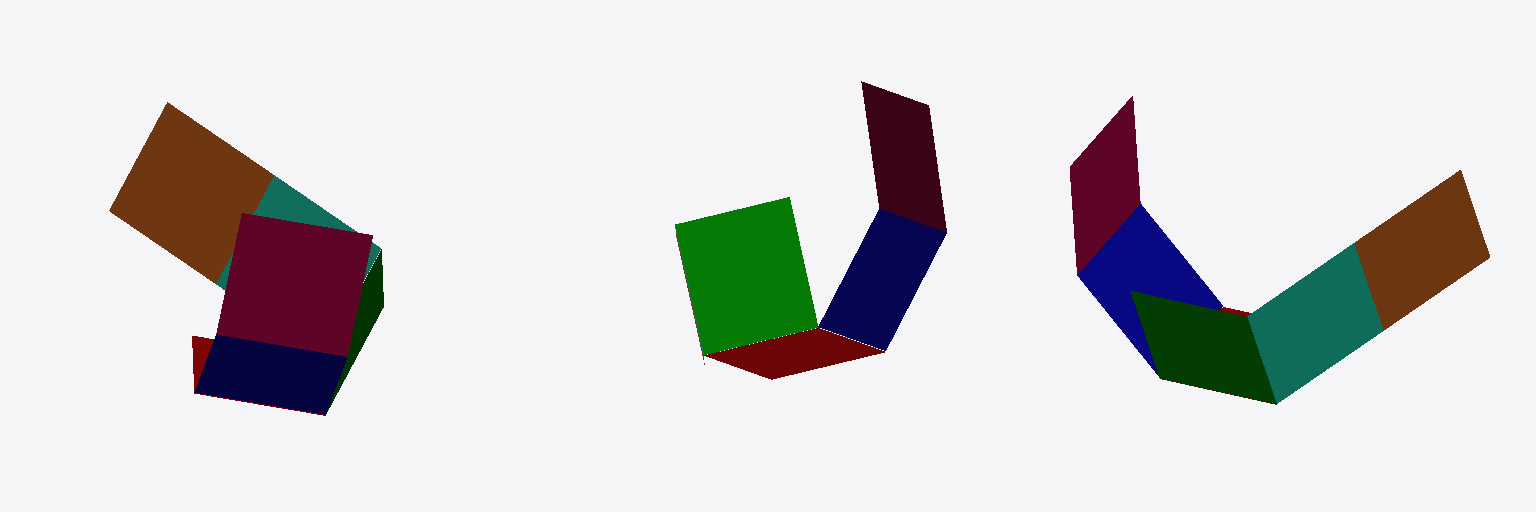
Rendered from cubexpansion.obj.
The picture shows the model from 3 angles: view 1: azimuth 30°, elevation 25°; view 2: azimuth 150°, elevation 25°; view 3: azimuth 270°, elevation 25°; orthographic projection.
Parts seen in each view (by area): view 1: Plane003, Plane004, Plane002, Plane005, Plane006, Plane001; view 2: Plane006, Plane002, Plane003, Plane001; view 3: Plane004, Plane005, Plane006, Plane002, Plane003.
Boxes of the visible parts, x1,y1,x2,y2 form: Plane003: [216, 213, 372, 356]; Plane004: [109, 102, 273, 283]; Plane002: [194, 335, 346, 414]; Plane005: [216, 175, 380, 289]; Plane006: [326, 249, 383, 413]; Plane001: [192, 336, 325, 415]; Plane006: [675, 197, 818, 354]; Plane002: [818, 208, 946, 350]; Plane003: [861, 81, 946, 231]; Plane001: [704, 328, 884, 379]; Plane004: [1354, 170, 1489, 329]; Plane005: [1247, 243, 1383, 403]; Plane006: [1130, 291, 1276, 404]; Plane002: [1077, 204, 1222, 375]; Plane003: [1070, 96, 1140, 274].
Size of the model in its own units: 37.74 by 38.94 by 62.83.